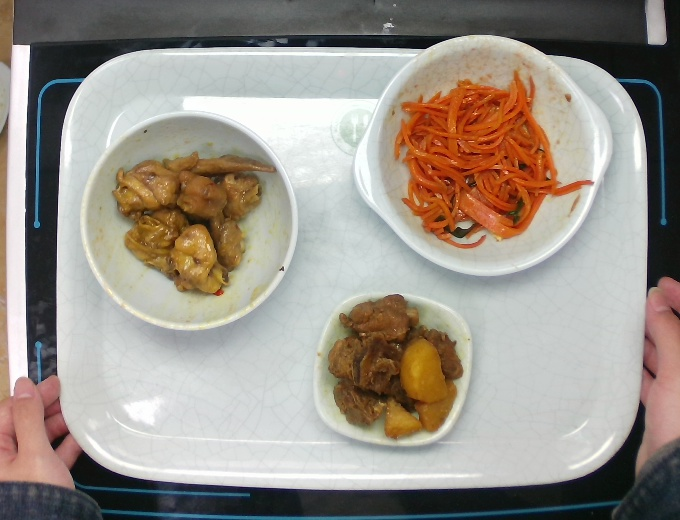JYsf-Fan_Wan: (78, 106, 306, 333)
JYsf-Shuang_Er_Wan: (352, 30, 618, 290)
JYsf-Si_Fang_Die: (309, 288, 480, 455)
